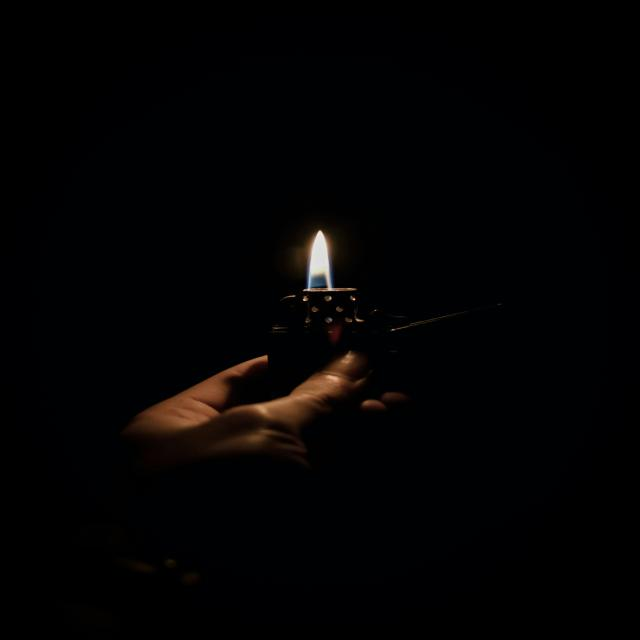fire: (305, 229, 331, 289)
